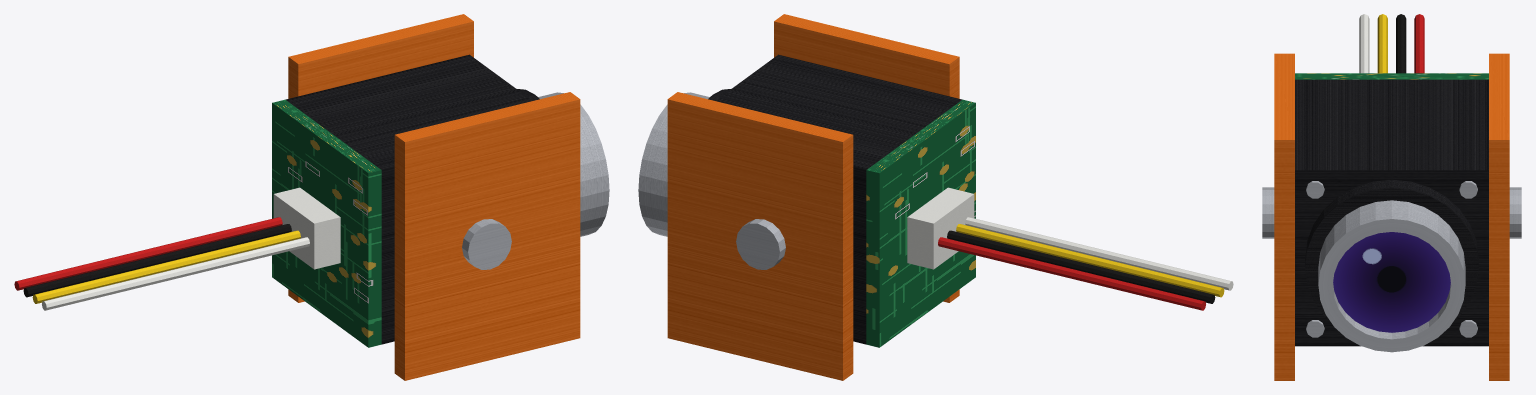
The model's file is fpv_camera.obj.
3 renders of one model, left to right at view 1: azimuth 30°, elevation 25°; view 2: azimuth 150°, elevation 25°; view 3: azimuth 270°, elevation 25°, orthographic.
Parts seen in each view (by area): view 1: side_plate_L, pcb, body, side_plate_R, jst_connector, lens_barrel, wire_4, wire_1, wire_2, wire_3, pivot_screw_L; view 2: side_plate_R, pcb, body, side_plate_L, jst_connector, lens_barrel, wire_1, wire_4, wire_2, wire_3, pivot_screw_R; view 3: body, lens_glass, lens_barrel, side_plate_L, side_plate_R, lens_bezel, pcb, pivot_screw_L, pivot_screw_R, wire_1, wire_4, wire_2 (+5 smaller).
Boxes of the visible parts, x1=… form: side_plate_L: x1=394, y1=92, x2=580, y2=380; pcb: x1=272, y1=99, x2=381, y2=347; body: x1=285, y1=54, x2=532, y2=344; side_plate_R: x1=288, y1=14, x2=473, y2=302; jst_connector: x1=273, y1=187, x2=340, y2=269; lens_barrel: x1=538, y1=92, x2=609, y2=236; wire_4: x1=42, y1=237, x2=309, y2=310; wire_1: x1=14, y1=217, x2=282, y2=290; wire_2: x1=23, y1=224, x2=291, y2=297; wire_3: x1=32, y1=230, x2=300, y2=303; pivot_screw_L: x1=462, y1=219, x2=511, y2=269; side_plate_R: x1=667, y1=92, x2=853, y2=380; pcb: x1=866, y1=99, x2=975, y2=347; body: x1=715, y1=54, x2=962, y2=344; side_plate_L: x1=774, y1=14, x2=959, y2=302; jst_connector: x1=907, y1=187, x2=974, y2=269; lens_barrel: x1=638, y1=92, x2=709, y2=236; wire_1: x1=938, y1=237, x2=1205, y2=310; wire_4: x1=965, y1=217, x2=1233, y2=290; wire_2: x1=947, y1=230, x2=1215, y2=303; wire_3: x1=956, y1=224, x2=1224, y2=297; pivot_screw_R: x1=736, y1=219, x2=785, y2=269; body: x1=1295, y1=79, x2=1488, y2=346; lens_glass: x1=1333, y1=232, x2=1450, y2=332; lens_barrel: x1=1318, y1=200, x2=1465, y2=352; side_plate_L: x1=1274, y1=53, x2=1294, y2=380; side_plate_R: x1=1489, y1=53, x2=1509, y2=380; lens_bezel: x1=1305, y1=179, x2=1478, y2=321; pcb: x1=1295, y1=73, x2=1488, y2=79; pivot_screw_L: x1=1262, y1=187, x2=1274, y2=238; pivot_screw_R: x1=1509, y1=187, x2=1521, y2=238; wire_1: x1=1414, y1=14, x2=1424, y2=73; wire_4: x1=1359, y1=14, x2=1369, y2=73; wire_2: x1=1396, y1=14, x2=1406, y2=73.
Size of the model in its own units: 0.0618 by 0.026 by 0.0254.
Materials: 1 (1 with a texture image).
